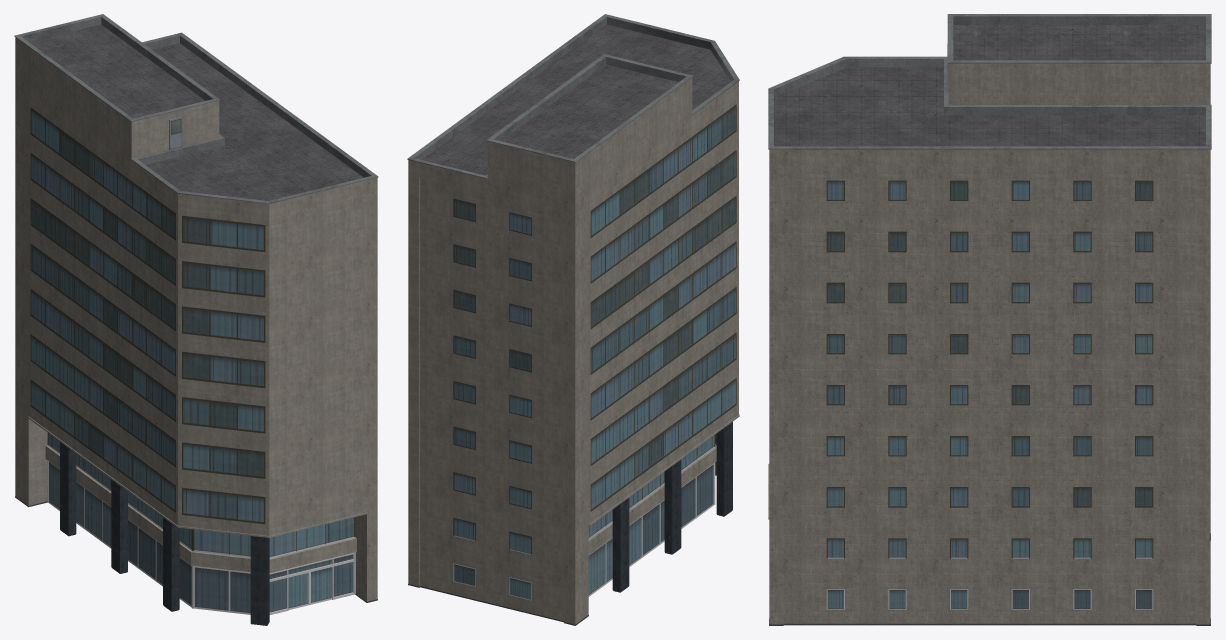
The model's file is jctBld24_12A_low.fbx.
3 renders of one model, left to right at view 1: azimuth 30°, elevation 25°; view 2: azimuth 150°, elevation 25°; view 3: azimuth 270°, elevation 25°, orthographic. The views are drawn at different scales.
Visible parts, largest first — view 1: jctBld24_12A_low; view 2: jctBld24_12A_low; view 3: jctBld24_12A_low.
Part boxes in pixels (x1=…): jctBld24_12A_low: x1=14, y1=14, x2=378, y2=625; jctBld24_12A_low: x1=407, y1=14, x2=739, y2=625; jctBld24_12A_low: x1=768, y1=14, x2=1211, y2=625.
Size of the model in its own units: 1160 by 3055 by 2360.
